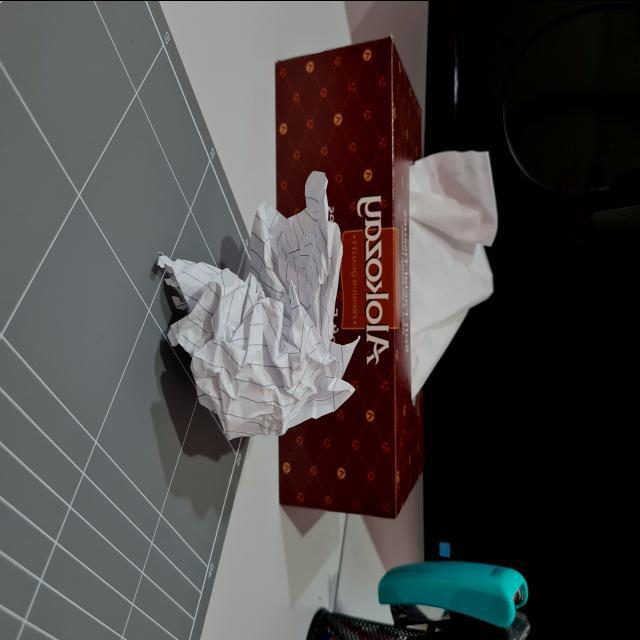Paper: (154, 159, 358, 459)
